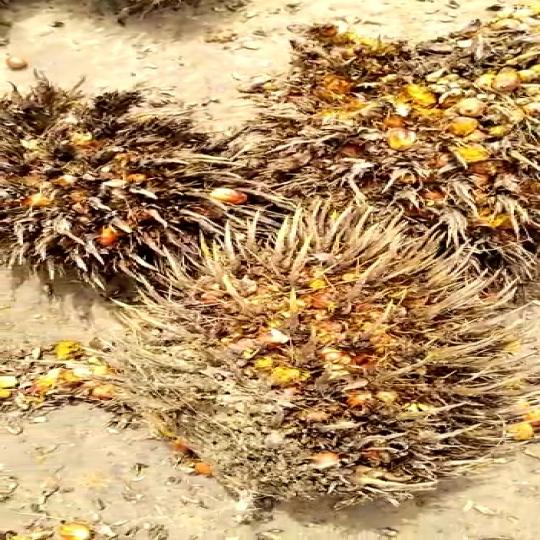terlalu masak: (114, 206, 500, 509), (0, 94, 224, 286)
